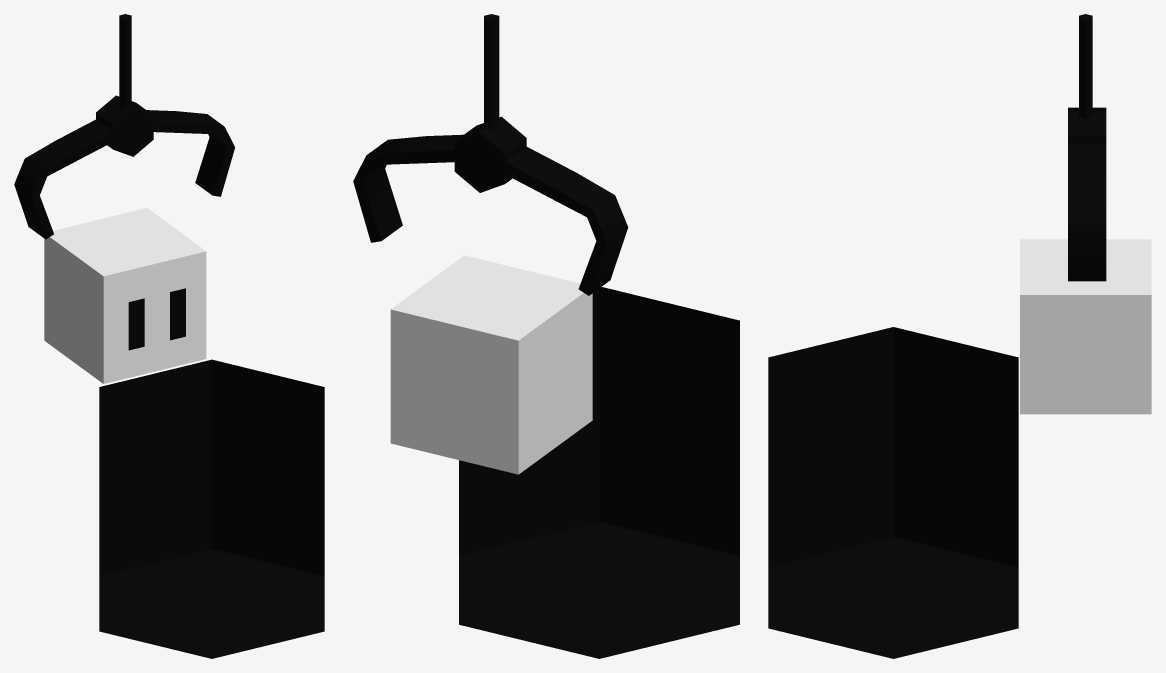
Rendered from arm-ana.glb.
3 views of the same model, side by side, from view 1: azimuth 30°, elevation 25°; view 2: azimuth 150°, elevation 25°; view 3: azimuth 270°, elevation 25° (orthographic). The views are drawn at different scales.
Parts seen in each view (by area): view 1: haco_ana:pCylinder1, haco_ana:pCube1, pPlane5, pPlane4, pCylinder3, haco_ana:pPlane1, haco_ana:pPlane2; view 2: haco_ana:pCylinder1, haco_ana:pCube1, pPlane5, pCylinder3, pPlane4; view 3: haco_ana:pCylinder1, haco_ana:pCube1, pPlane4, pCylinder3.
Part boxes in pixels (x1,y1,x2,y2): haco_ana:pCylinder1: [99, 359, 324, 658]; haco_ana:pCube1: [44, 208, 206, 383]; pPlane5: [14, 119, 132, 239]; pPlane4: [133, 110, 234, 196]; pCylinder3: [96, 14, 153, 156]; haco_ana:pPlane1: [128, 298, 144, 350]; haco_ana:pPlane2: [170, 288, 185, 340]; haco_ana:pCylinder1: [459, 287, 739, 658]; haco_ana:pCube1: [390, 255, 592, 474]; pPlane5: [480, 146, 628, 295]; pCylinder3: [454, 14, 526, 192]; pPlane4: [353, 134, 479, 242]; haco_ana:pCylinder1: [768, 327, 1018, 658]; haco_ana:pCube1: [1020, 239, 1151, 414]; pPlane4: [1068, 144, 1106, 281]; pCylinder3: [1068, 14, 1106, 143].
Bounding box in the file's own units: 0.1097 × 0.2431 × 0.1454.
Materials: 3 (3 with a texture image).
